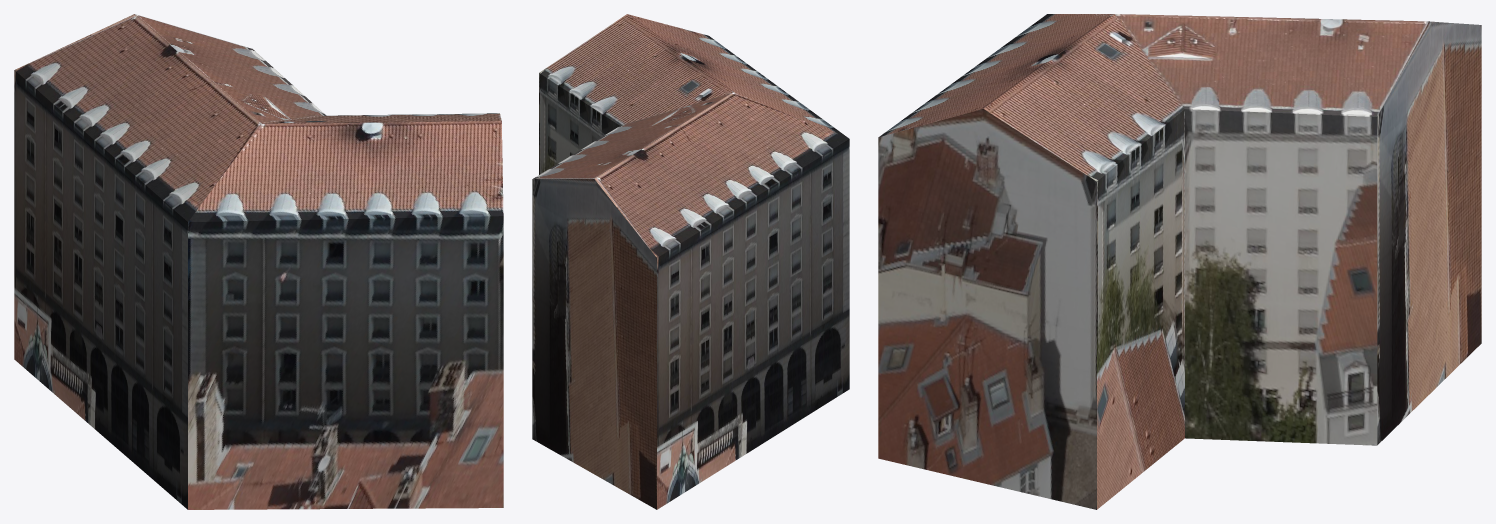
3 views of the same model, side by side, from view 1: azimuth 30°, elevation 25°; view 2: azimuth 150°, elevation 25°; view 3: azimuth 270°, elevation 25° (orthographic). The views are drawn at different scales.
Visible parts, largest first — view 1: Z_UP; view 2: Z_UP; view 3: Z_UP.
Part boxes in pixels (bbox=[...]): Z_UP: bbox=[14, 14, 503, 509]; Z_UP: bbox=[532, 14, 849, 509]; Z_UP: bbox=[878, 14, 1481, 509].
Bounding box in the file's own units: 25.93 × 25.23 × 36.84.
Materials: 2 (1 with a texture image).
